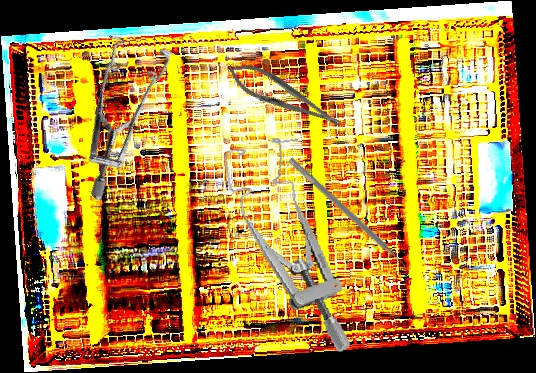Needle Holder: (221, 54, 348, 139)
Spatula Surgical: (282, 156, 413, 276)
Speculum: (21, 11, 216, 204), (221, 129, 354, 367)
